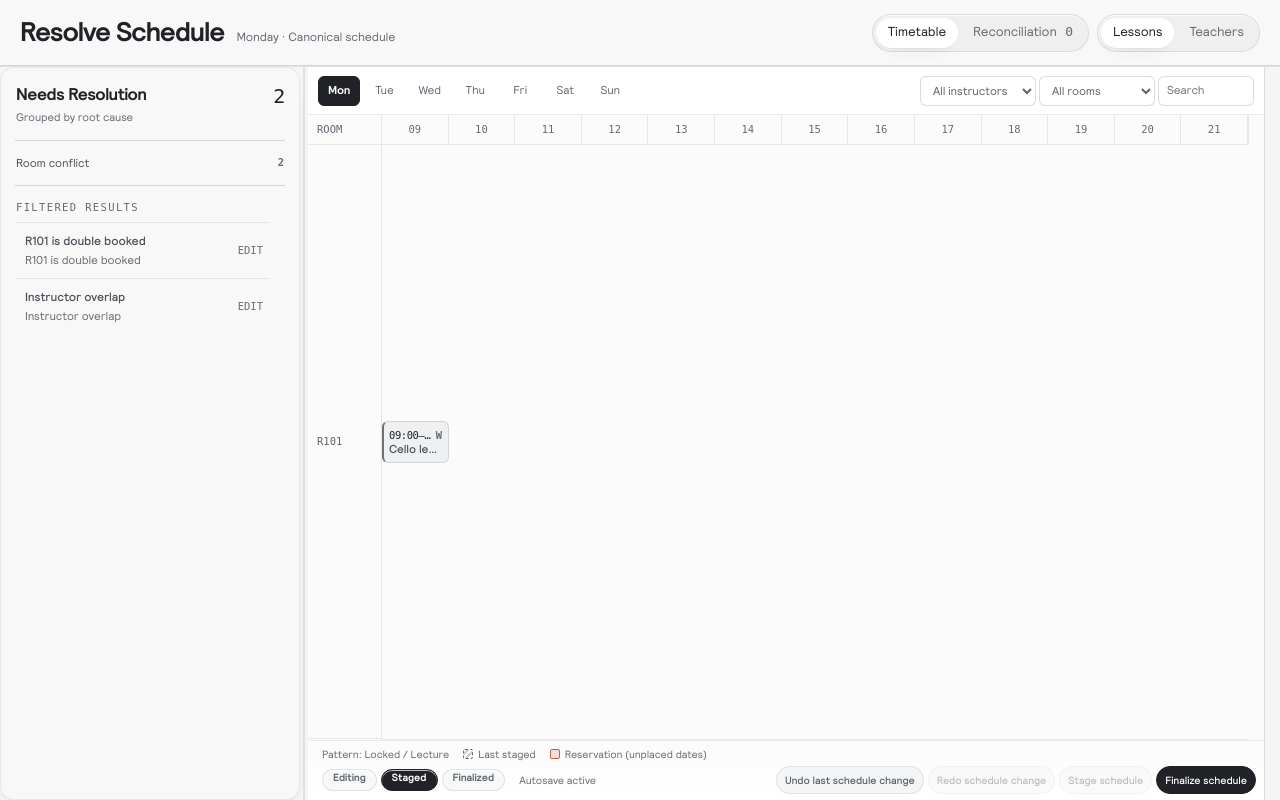
finalize schedule › preserves the draft and focuses Needs resolution when two conflicts block finalize
The image size is (1280, 800).
Click the button "Finalize schedule": (1206, 780) [1156, 766, 1256, 794]
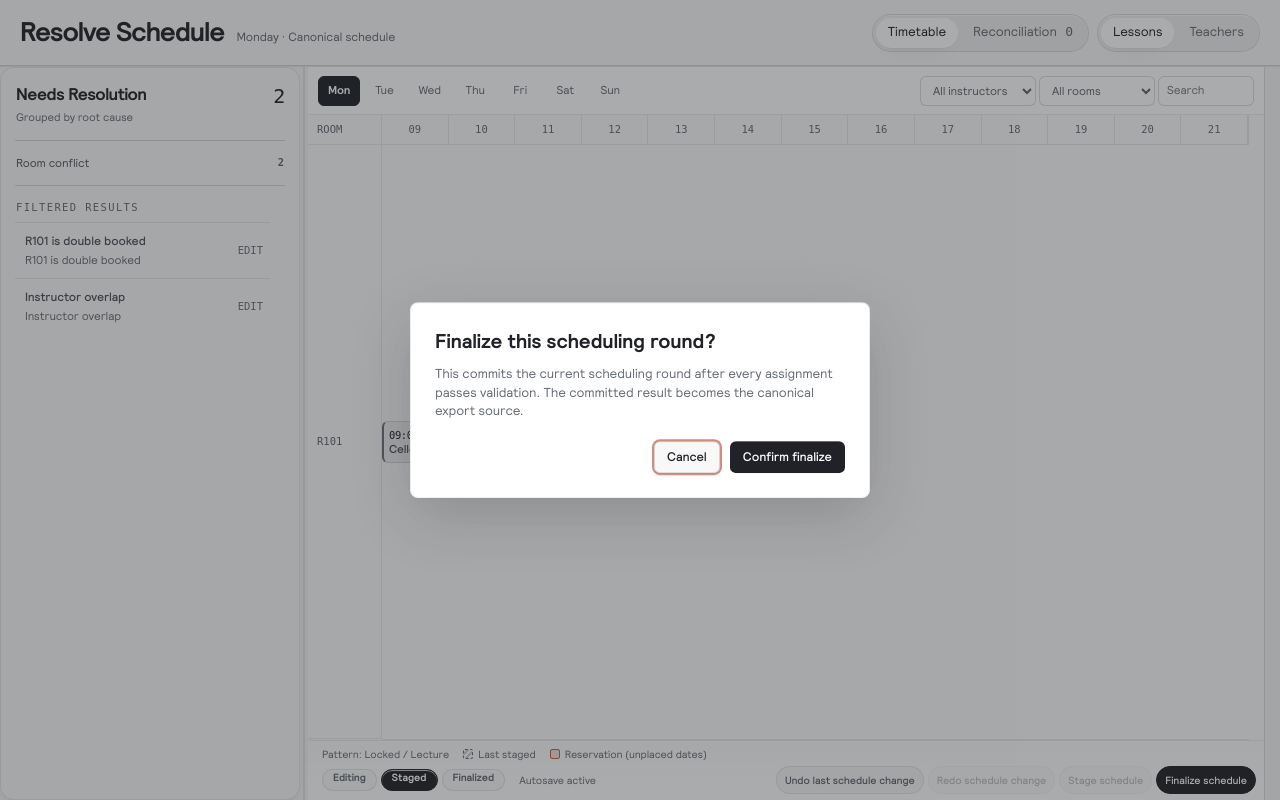
Click the button "Confirm finalize": (787, 457) [730, 441, 845, 473]
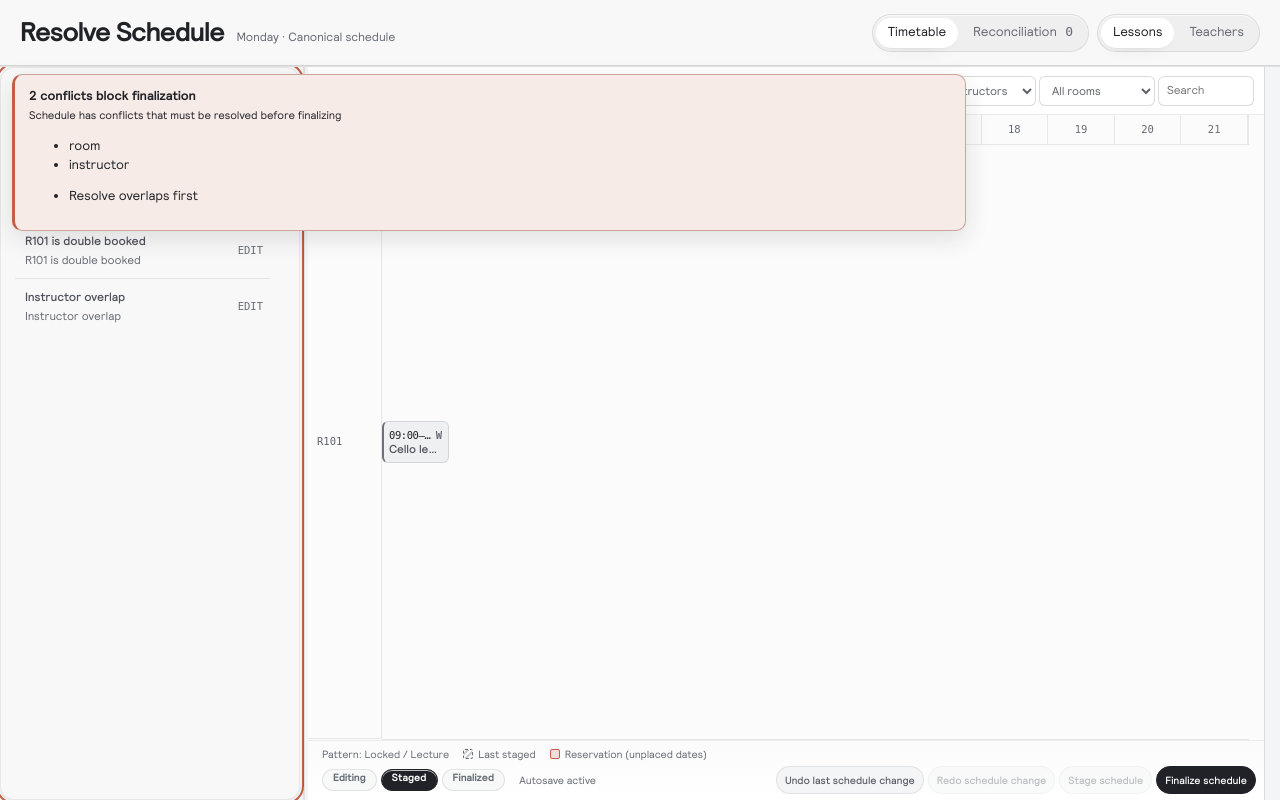
Check: the text "2 conflicts block finalization" is shown, box [29, 88, 196, 103]
Check: the text "Schedule has conflicts that must be resolved before finalizing" is shown, box [29, 110, 341, 122]
Check: the list item "room" is shown, box [69, 138, 100, 153]
